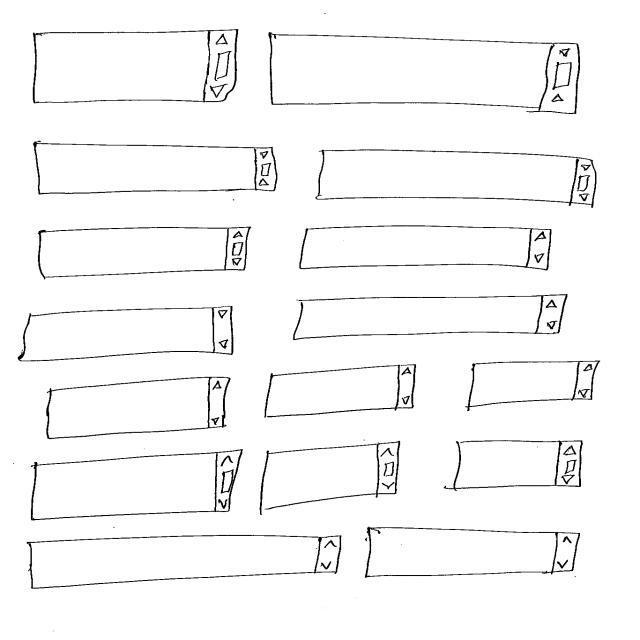textarea: (268, 34, 583, 117), (26, 535, 343, 590), (316, 151, 599, 208), (30, 449, 244, 523), (32, 30, 240, 106), (292, 293, 570, 341), (34, 143, 280, 196), (16, 305, 235, 364), (298, 225, 554, 273), (46, 375, 232, 441), (38, 226, 253, 280), (364, 527, 582, 580), (259, 441, 402, 514), (262, 363, 417, 420), (452, 440, 585, 493), (466, 359, 601, 410)
